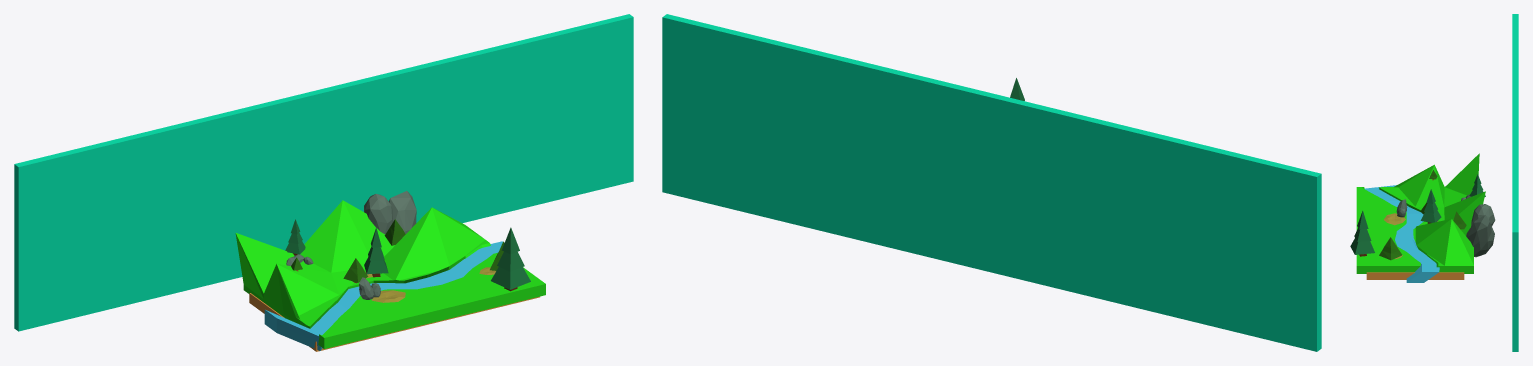
File: Pozadina.fbx
The picture shows the model from 3 angles, left to right: view 1: azimuth 30°, elevation 25°; view 2: azimuth 150°, elevation 25°; view 3: azimuth 270°, elevation 25°; orthographic projection. The views are drawn at different scales.
Visible parts, largest first — view 1: Pozadina, Cube, Cube.003, Cube.006, Icosphere.003, Icosphere.002, Cube.004, Cube.002; view 2: Pozadina; view 3: Cube, Pozadina, Cube.003, Icosphere.002, Cube.002, Cube.006, Cube.004, Icosphere.003, Drvo.002, Circle.001, Cube.005.
Part boxes in pixels (<box>): Pozadina: <box>14,14,633,331</box>; Cube: <box>235,200,545,348</box>; Cube.003: <box>264,241,502,350</box>; Cube.006: <box>491,227,530,291</box>; Icosphere.003: <box>364,194,392,234</box>; Icosphere.002: <box>389,191,416,233</box>; Cube.004: <box>364,228,388,277</box>; Cube.002: <box>249,293,539,351</box>; Pozadina: <box>662,14,1321,351</box>; Cube: <box>1356,153,1485,273</box>; Pozadina: <box>1512,14,1518,351</box>; Cube.003: <box>1364,185,1439,282</box>; Icosphere.002: <box>1466,215,1494,257</box>; Cube.002: <box>1366,272,1464,279</box>; Cube.006: <box>1350,210,1374,256</box>; Cube.004: <box>1420,189,1441,223</box>; Icosphere.003: <box>1471,204,1495,226</box>; Drvo.002: <box>1379,237,1401,260</box>; Circle.001: <box>1384,213,1405,225</box>; Cube.005: <box>1469,174,1485,196</box>.
Size of the model in its own units: 235 by 60.05 by 76.63.
